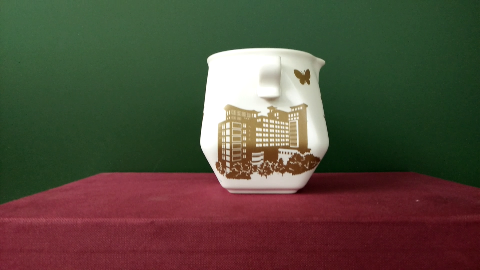butterfly: (284, 55, 322, 90)
lenwen: (226, 112, 304, 172)
